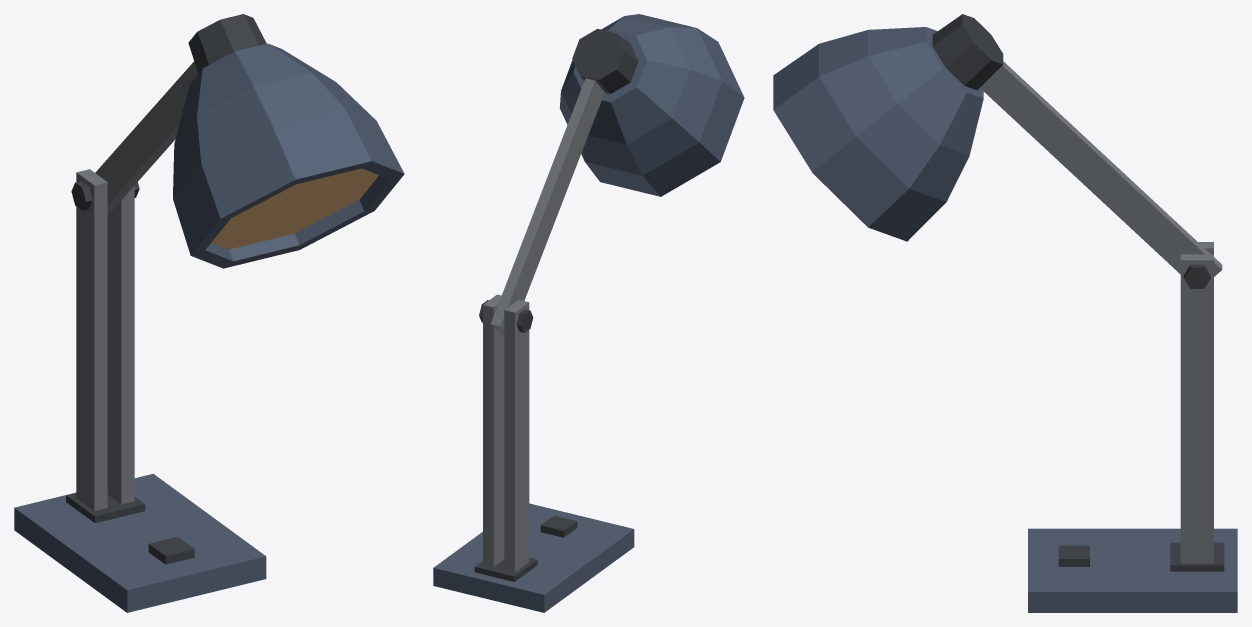
File: Light_15.fbx
The picture shows the model from 3 angles, left to right: view 1: azimuth 30°, elevation 25°; view 2: azimuth 150°, elevation 25°; view 3: azimuth 270°, elevation 25°; orthographic projection. The views are drawn at different scales.
Visible parts, largest first — view 1: Light_15; view 2: Light_15; view 3: Light_15.
Part boxes in pixels (x1,y1,x2,y2): Light_15: [14, 14, 404, 612]; Light_15: [433, 14, 744, 612]; Light_15: [773, 14, 1237, 612].
Size of the model in its own units: 10.48 by 32.88 by 24.62.
